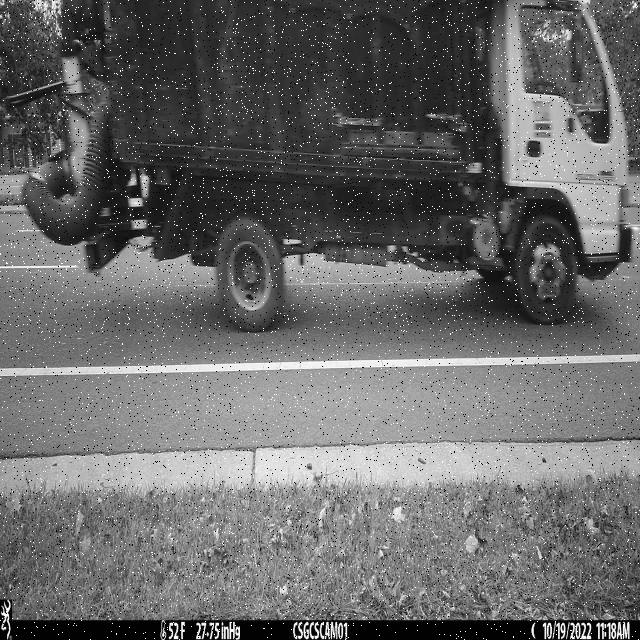Truck- 2-Axle: (3, 0, 639, 334)
